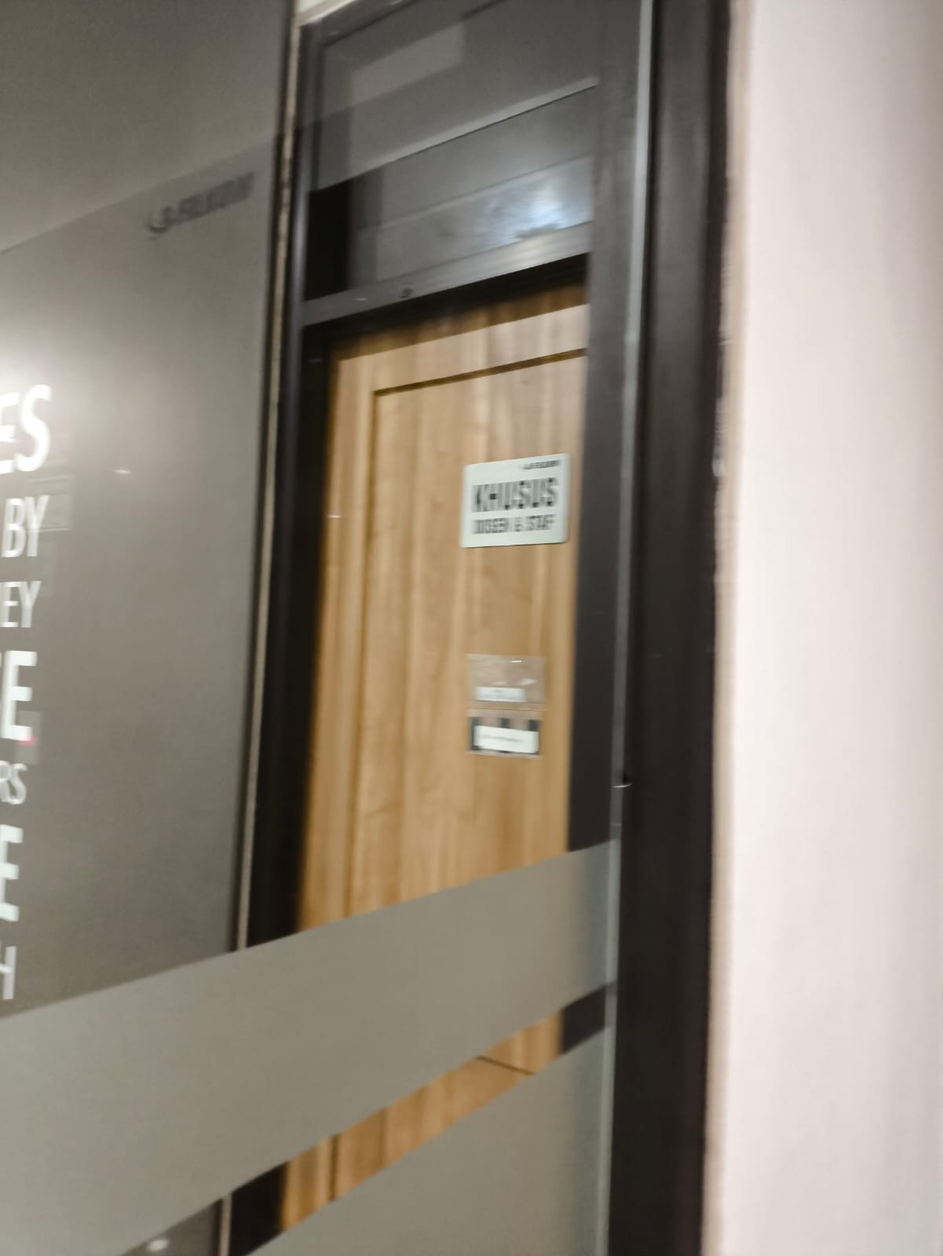ruang khusus dosen dan staff: (460, 447, 572, 550)
